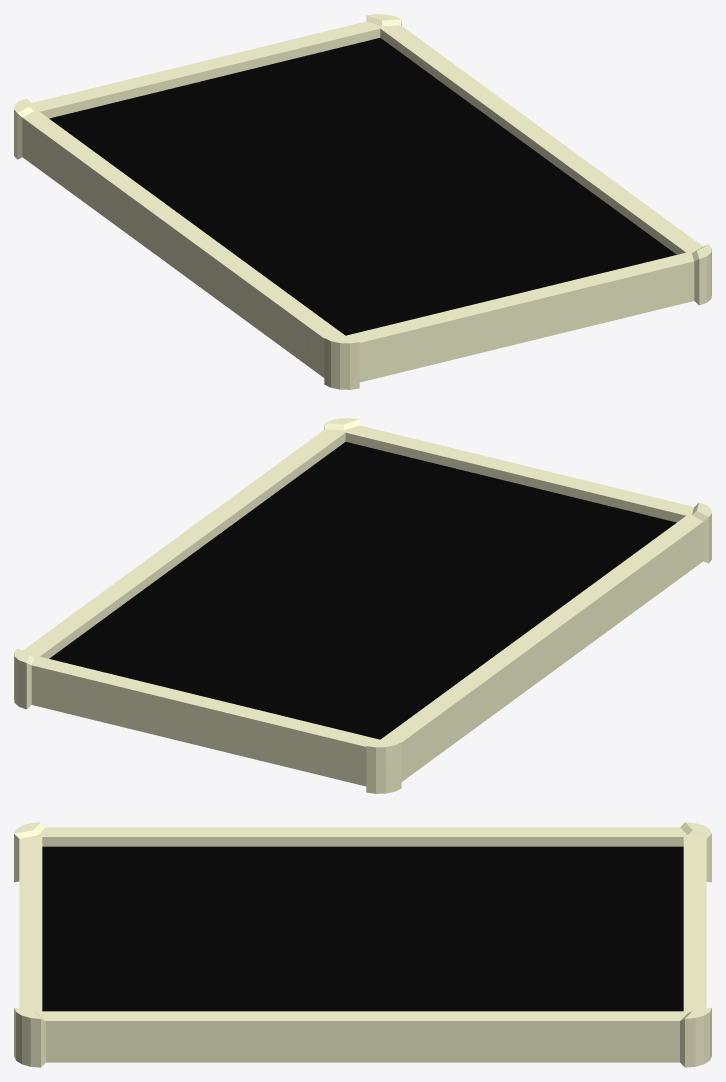
File: Tablet.fbx
The picture shows the model from 3 angles, top to bottom: view 1: azimuth 30°, elevation 25°; view 2: azimuth 150°, elevation 25°; view 3: azimuth 270°, elevation 25°; orthographic projection. The views are drawn at different scales.
Visible parts, largest first — view 1: Screen, Tablet; view 2: Screen, Tablet; view 3: Screen, Tablet.
Boxes of the visible parts, box(x1,y1,x2,y2) form: Screen: box(49, 37, 676, 335); Tablet: box(14, 14, 711, 389); Screen: box(49, 441, 676, 739); Tablet: box(14, 418, 711, 793); Screen: box(42, 846, 683, 1011); Tablet: box(14, 822, 711, 1067).
Bounding box in the file's own units: 203 × 23.47 × 305.
